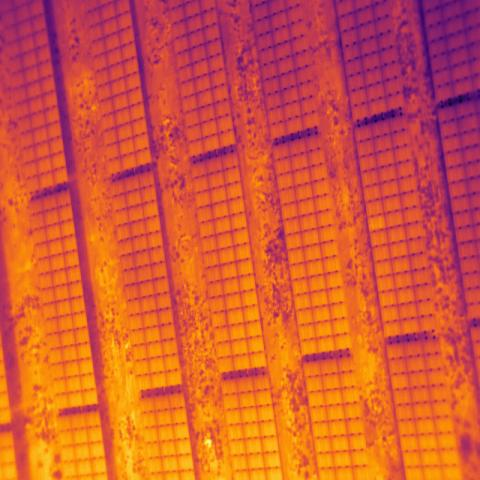fault: (366, 214, 386, 232)
